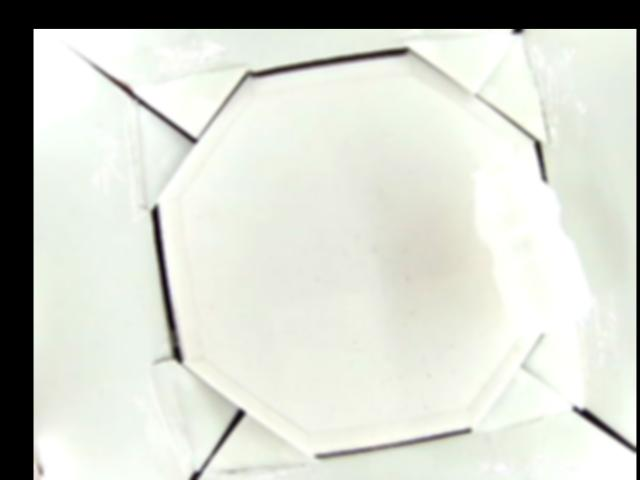Bottle: (475, 160, 584, 335)
